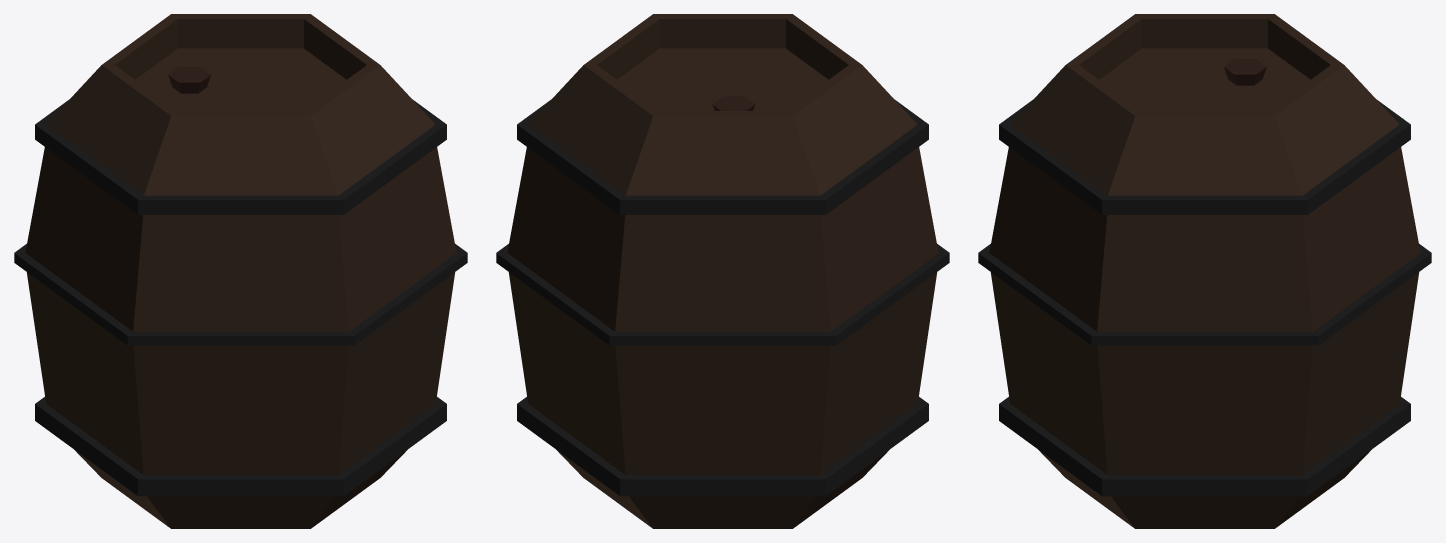
The model's file is barrel.FBX.
The picture shows the model from 3 angles, left to right: view 1: azimuth 30°, elevation 25°; view 2: azimuth 150°, elevation 25°; view 3: azimuth 270°, elevation 25°; orthographic projection.
Visible parts, largest first — view 1: barrel; view 2: barrel; view 3: barrel.
Boxes of the visible parts, x1,y1,x2,y2 form: barrel: (14,14,467,528); barrel: (496,14,949,528); barrel: (978,14,1431,528).
Bounding box in the file's own units: 38.37 × 44.49 × 44.31.
